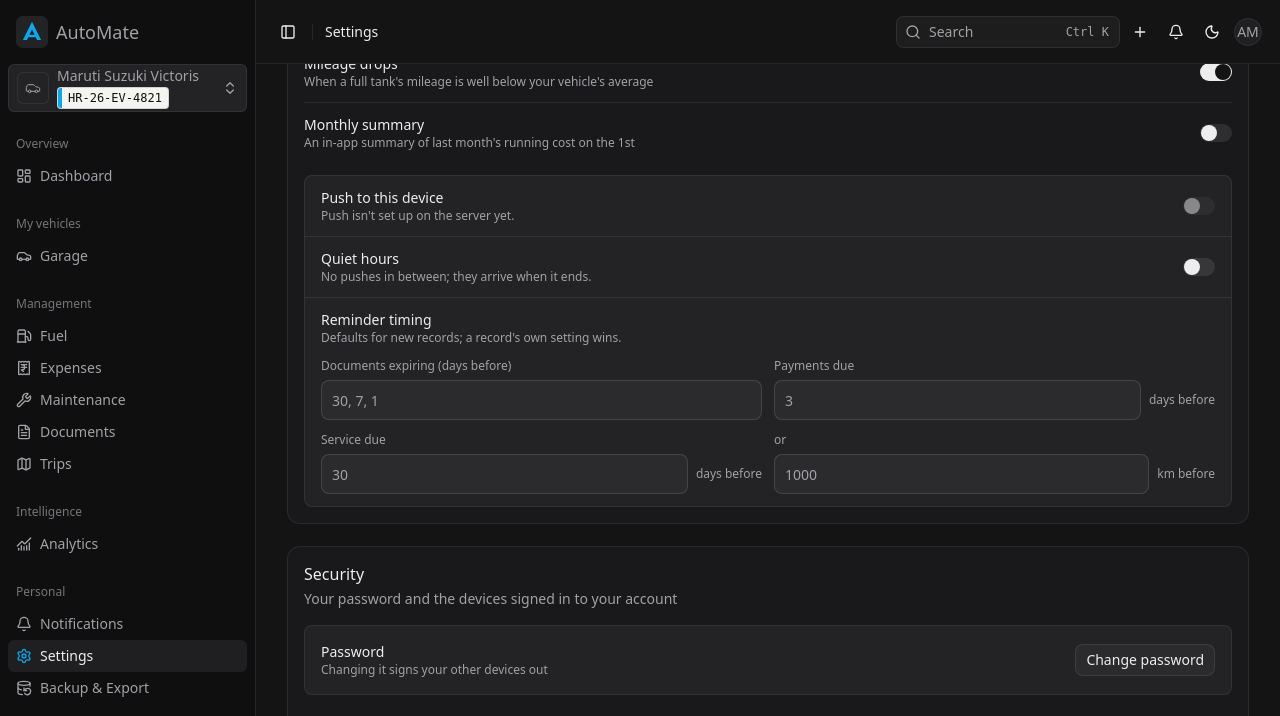
Test: settings › saves reminder timing and puts back a value it can't use
(page scrolled)
Replace the text in the field labelled "Payments due days before" with "5". click: (957, 400)
box: [774, 380, 1141, 420]
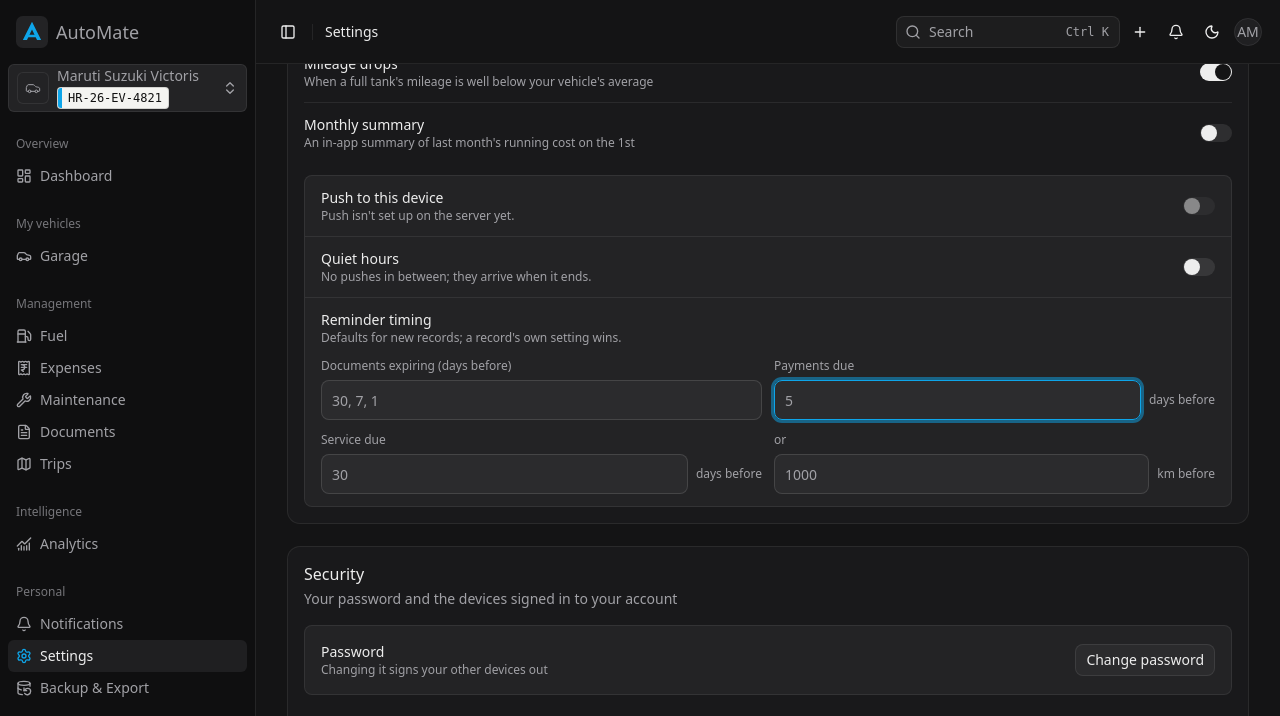
Type "15, 3" into the field labelled "Documents expiring (days before)". click: (542, 400)
box: [321, 380, 762, 420]
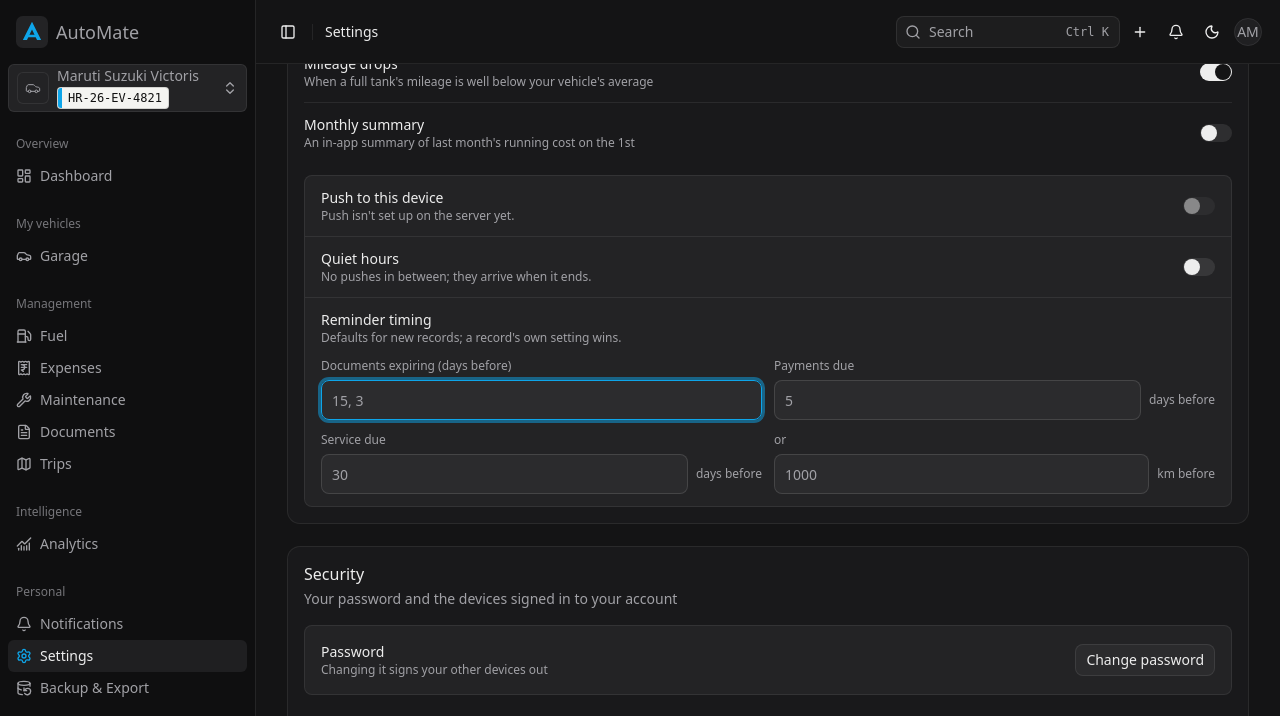
Press Tab
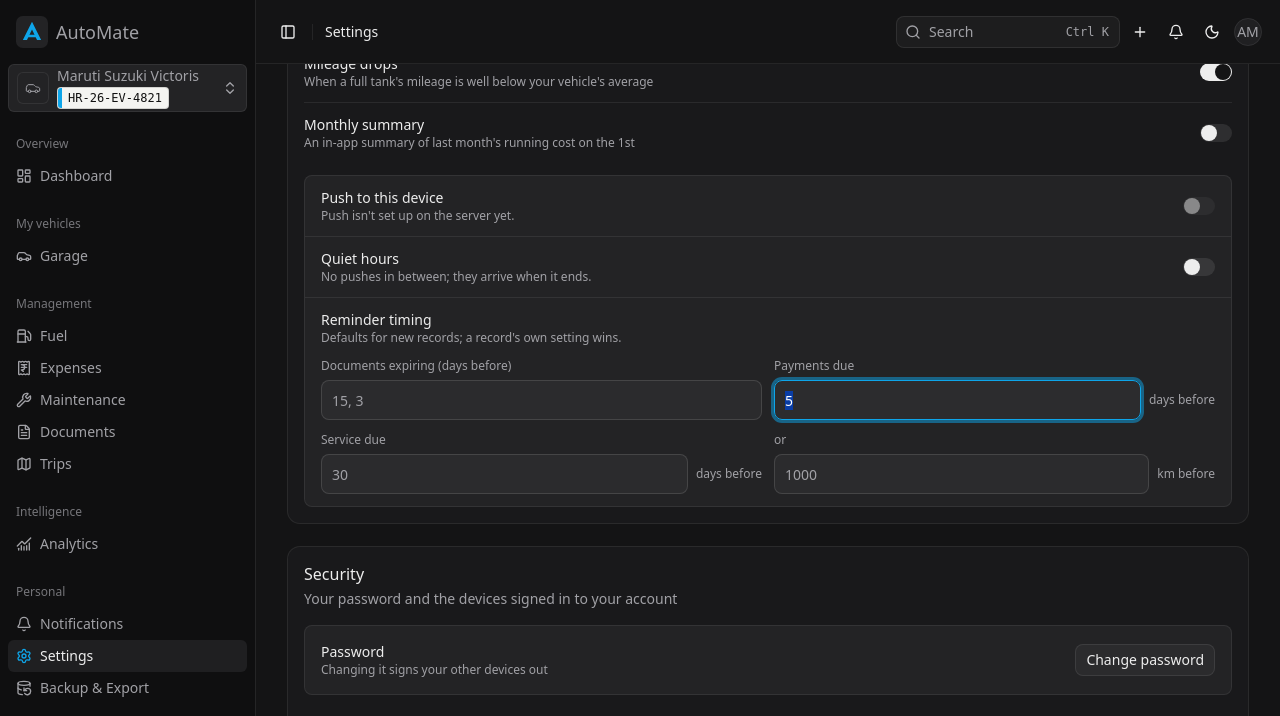
Replace the text in the field labelled "or km before" with "lots". click: (962, 474)
box: [774, 454, 1149, 494]
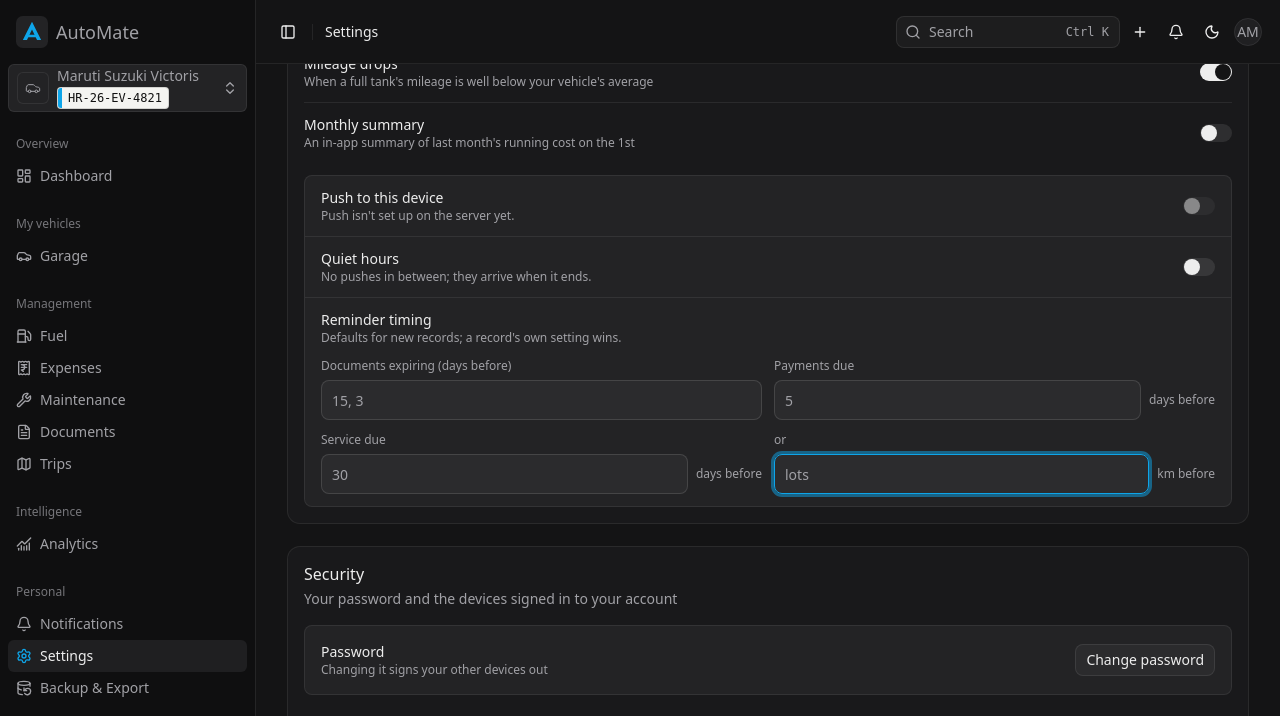
Press Tab
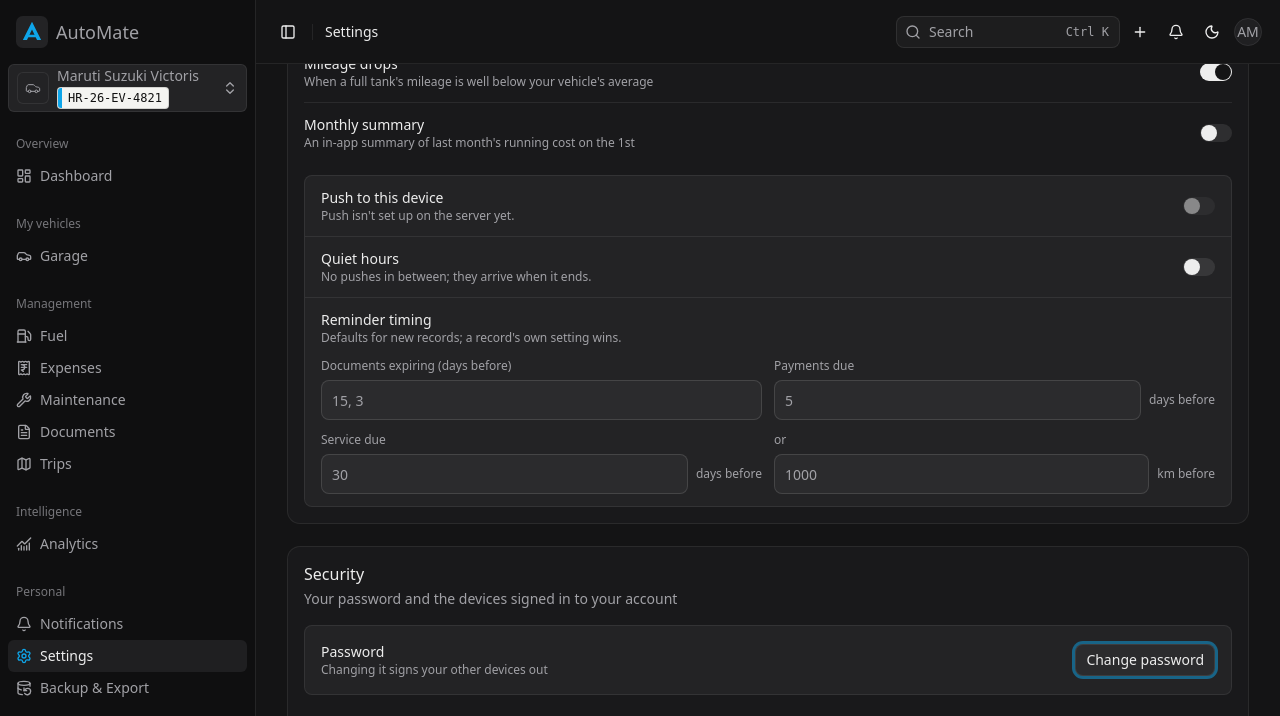
Expected: the field labelled "or km before" holds "1000", [774, 454, 1149, 494]
